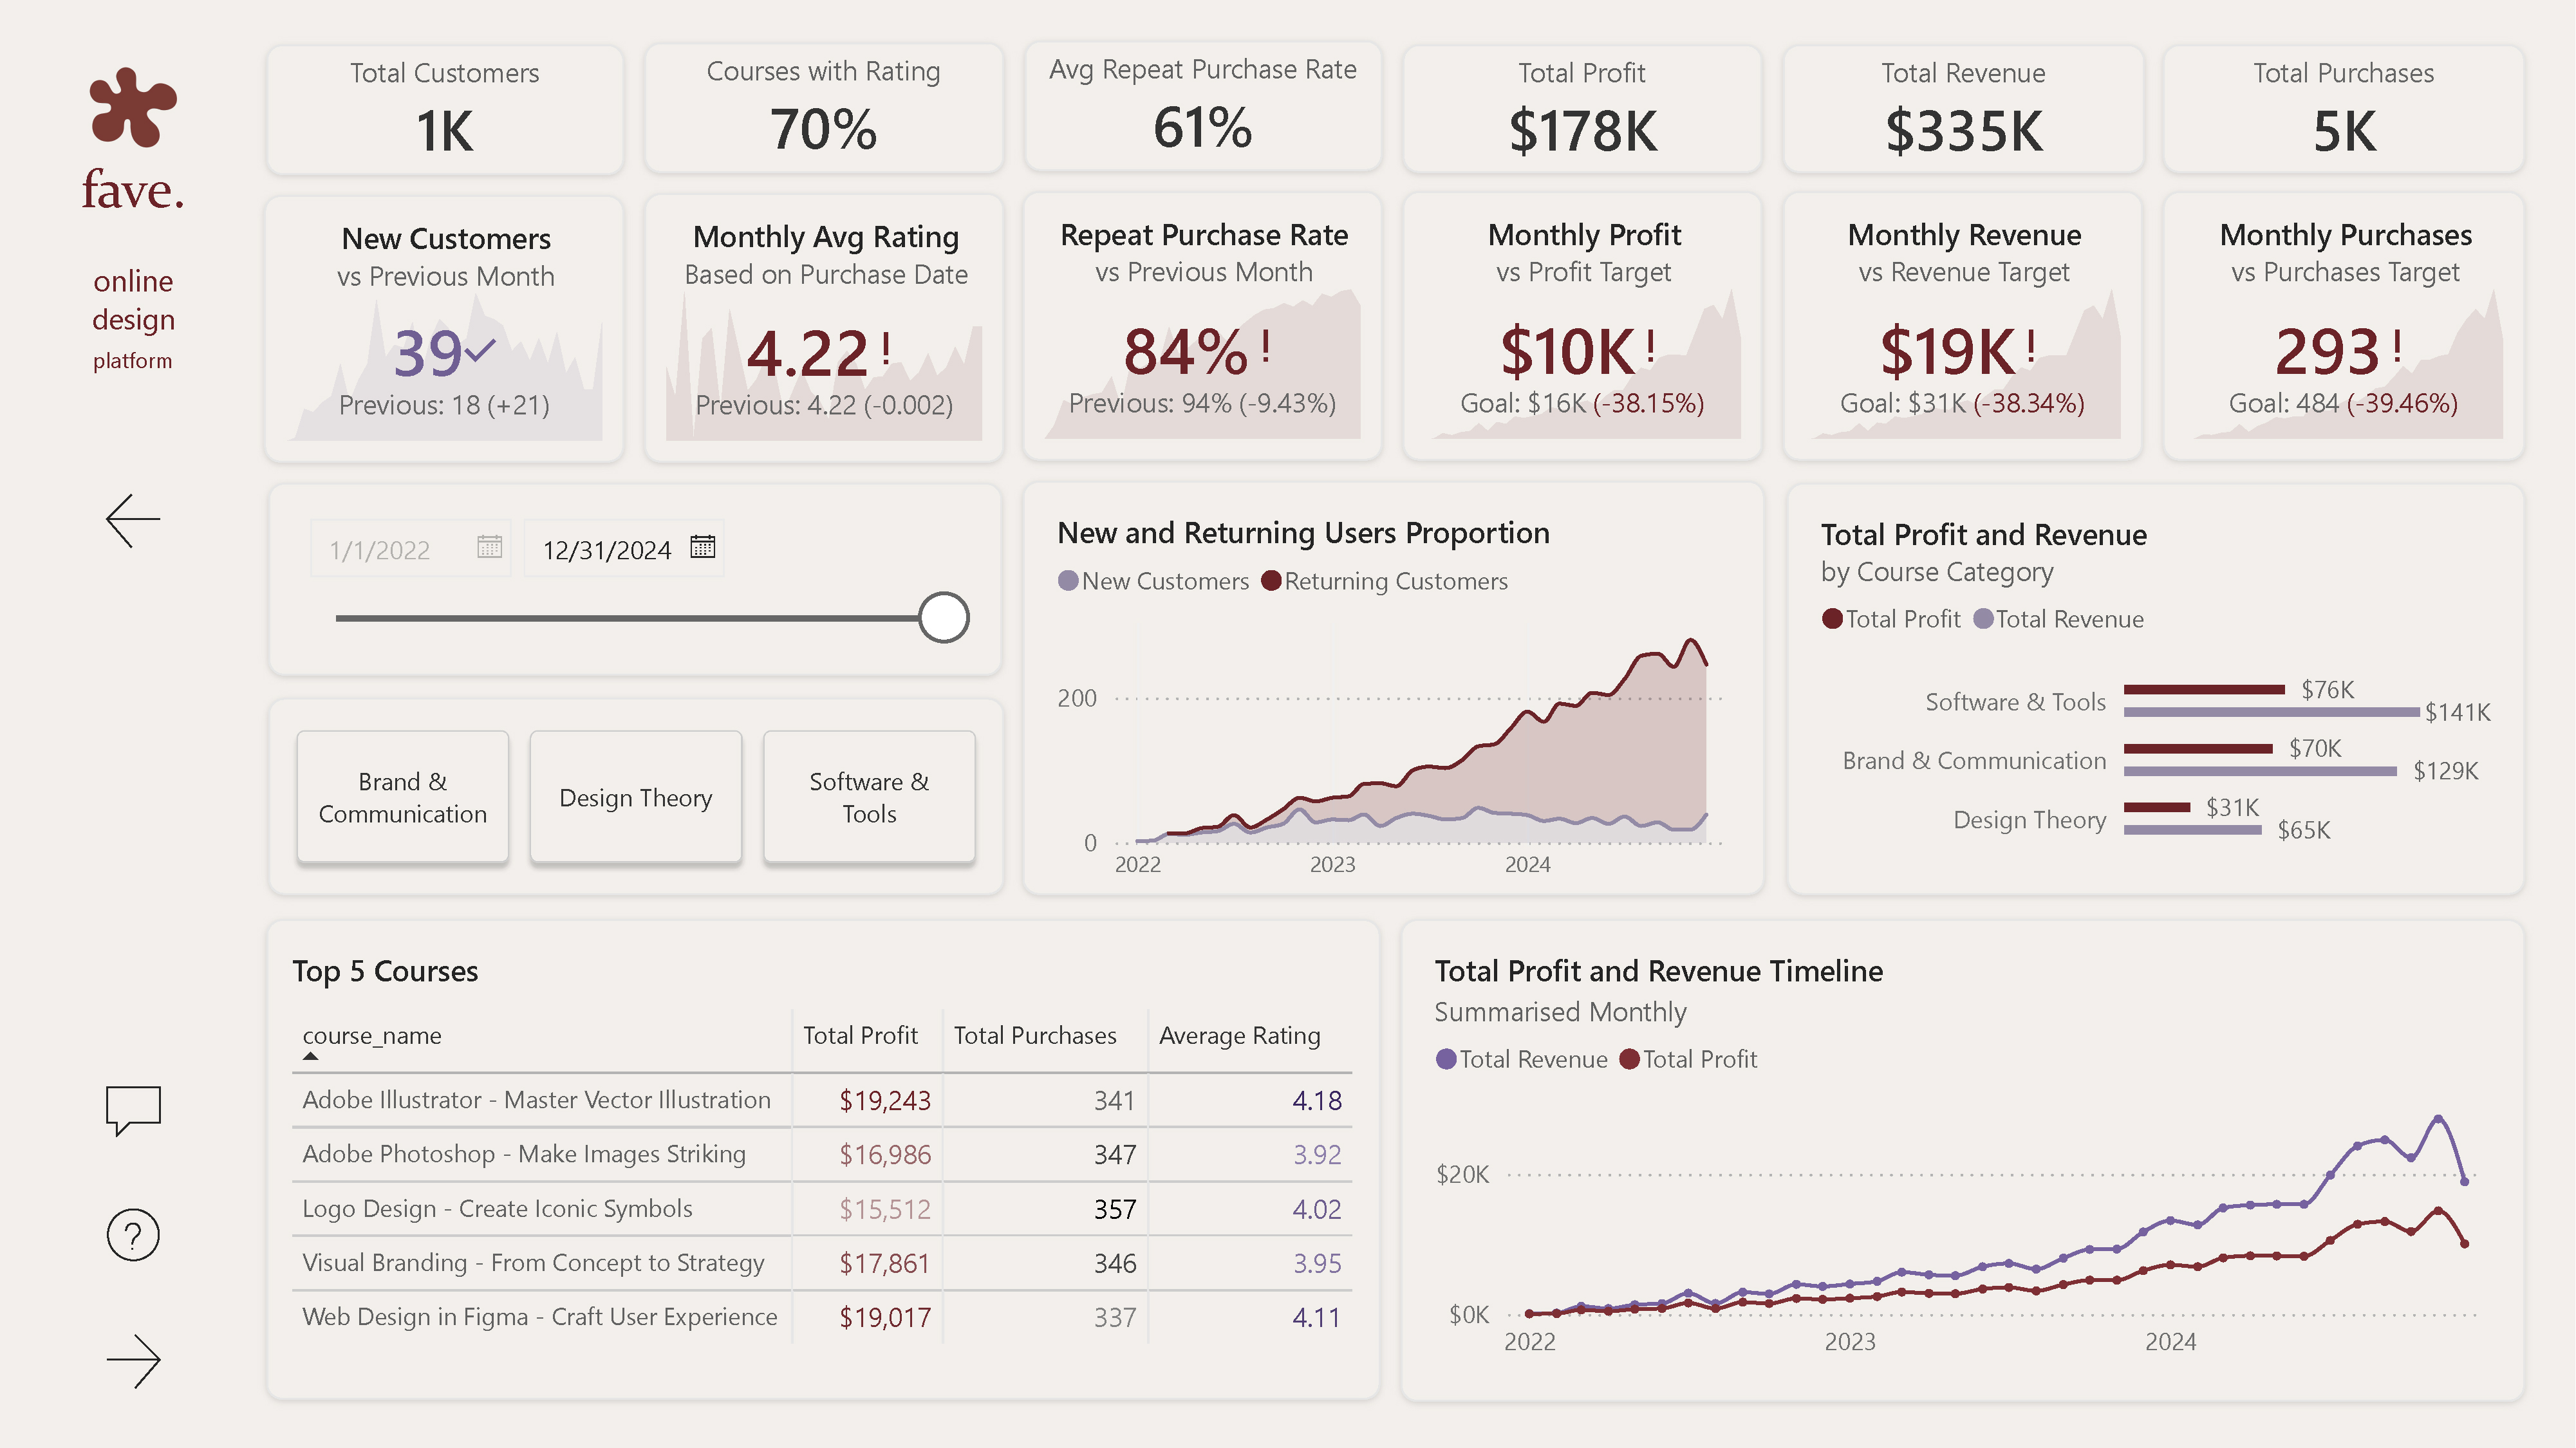

Layout of this report page (visuals, bound fields, positions):
{"tool":"powerbi","page":{"name":"Executive Dashboard","canvas":[1280,720],"ordinal":0},"visuals":[{"type":"lineChart","title":"Total Profit and Revenue Timeline","fields":{"Category":["calendar.date.Variation.Date Hierarchy.Year","calendar.date.Variation.Date Hierarchy.Quarter","calendar.date.Variation.Date Hierarchy.Month"],"Y":["Measure Table.Total Revenue","Measure Table.Total Profit"]},"box":[696.1,457.2,558.6,240.1],"z":0},{"type":"cardVisual","fields":{"Data":["Measure Table.Total Profit"]},"box":[696.6,21.7,179.8,63.9],"z":1000},{"type":"cardVisual","fields":{"Data":["Measure Table.Total Revenue"]},"box":[885.8,21.7,179.8,63.9],"z":2000},{"type":"pivotTable","title":"Top 5 Courses","fields":{"Rows":["courses.course_name"],"Values":["Measure Table.Total Profit","Measure Table.Total Purchases","Measure Table.Average Course Rating"]},"box":[131.5,457.2,555,238.9],"z":3000},{"type":"image","box":[39.7,28.1,52.5,50],"z":4000},{"type":"actionButton","box":[43,239.7,45,38.3],"z":5000},{"type":"actionButton","box":[43,593,45,41.7],"z":6000},{"type":"actionButton","box":[43,532.2,45,40.8],"z":7000},{"type":"actionButton","box":[47.2,658.9,36.7,35],"z":8000},{"type":"textbox","box":[32,77.8,68.3,137.8],"z":9000},{"type":"kpi","title":"Monthly Profit ","fields":{"Goal":["Measure Table.Profit Target"],"Indicator":["Measure Table.Total Profit"],"TrendLine":["calendar.Start of Month"]},"box":[697.1,95.1,179.3,134.1],"z":10000},{"type":"kpi","title":"Monthly Revenue ","fields":{"Goal":["Measure Table.Revenue Target 1"],"Indicator":["Measure Table.Total Revenue"],"TrendLine":["calendar.Start of Month"]},"box":[886,95.1,179.3,134.1],"z":11000},{"type":"kpi","title":"Monthly Purchases","fields":{"Goal":["Measure Table.Purchases Target"],"Indicator":["Measure Table.Total Purchases"],"TrendLine":["calendar.Start of Month"]},"box":[1074.9,95.3,179.8,133.9],"z":12000},{"type":"cardVisual","fields":{"Data":["Measure Table.Total Purchases"]},"box":[1074.9,21.7,179.8,63.9],"z":13000},{"type":"stackedAreaChart","title":"New and Returning Users Proportion","fields":{"Category":["calendar.date.Variation.Date Hierarchy.Year","calendar.date.Variation.Date Hierarchy.Month"],"Y":["Measure Table.New Customers","Measure Table.Returning Customers"]},"box":[507.9,238.9,369.2,206.3],"z":14000},{"type":"kpi","title":"Repeat Purchase Rate","fields":{"Goal":["Measure Table.Previous Month Repeat Purchase Rate %"],"Indicator":["Measure Table.Repeat Purchase Rate %"],"TrendLine":["calendar.Start of Month"]},"box":[508.2,95.1,179.3,134.1],"z":15000},{"type":"cardVisual","fields":{"Data":["Measure Table.Avg Monthly Repeat Purchase Rate %"]},"box":[508.5,20,178.8,65],"z":16000},{"type":"kpi","title":"Monthly Avg Rating","fields":{"Goal":["Measure Table.Previous Month Avg Rating per Purchase Date"],"Indicator":["Measure Table.Average Rating"],"TrendLine":["calendar.Start of Month"]},"box":[319.8,96.2,178.8,133.8],"z":17000},{"type":"cardVisual","fields":{"Data":["Measure Table.Rated Courses Pct"]},"box":[320.4,21.2,178.8,65],"z":18000},{"type":"clusteredBarChart","title":"Total Profit and Revenue","fields":{"Category":["courses.course_category"],"Y":["Measure Table.Total Profit","Measure Table.Total Revenue"]},"box":[887.9,240.1,366.8,205.1],"z":19000},{"type":"kpi","title":"New Customers","fields":{"Goal":["Measure Table.Previous Month Customers"],"Indicator":["Measure Table.New Customers"],"TrendLine":["calendar.Start of Month"]},"box":[131.5,96.6,178.8,133.8],"z":20000},{"type":"cardVisual","fields":{"Data":["Measure Table.Total Customers"]},"box":[131.5,21.7,178.6,65.1],"z":21000},{"type":"slicer","title":"Date Range","fields":{"Values":["calendar.date"]},"box":[132.6,240,365.8,96.3],"z":22000},{"type":"advancedSlicerVisual","title":"Course Category","fields":{"Values":["courses.course_category"]},"box":[132.8,346.7,366.7,98.3],"z":23000}]}

Visuals, with their boxes in screenshot pixels (x1, y1, x2, y2), scaled from the page's 1280x720 canvas onto the 2576x1448 screenshot:
"Total Profit and Revenue Timeline" lineChart: box(1401, 920, 2525, 1402)
cardVisual - Measure Table.Total Profit: box(1402, 44, 1764, 172)
cardVisual - Measure Table.Total Revenue: box(1783, 44, 2145, 172)
"Top 5 Courses" pivotTable: box(265, 920, 1381, 1400)
image: box(80, 57, 185, 157)
actionButton: box(86, 482, 177, 559)
actionButton: box(86, 1193, 177, 1276)
actionButton: box(86, 1070, 177, 1153)
actionButton: box(95, 1325, 169, 1395)
textbox: box(64, 156, 202, 434)
"Monthly Profit " kpi: box(1403, 191, 1764, 461)
"Monthly Revenue " kpi: box(1783, 191, 2144, 461)
"Monthly Purchases" kpi: box(2163, 192, 2525, 461)
cardVisual - Measure Table.Total Purchases: box(2163, 44, 2525, 172)
"New and Returning Users Proportion" stackedAreaChart: box(1022, 481, 1765, 895)
"Repeat Purchase Rate" kpi: box(1023, 191, 1384, 461)
cardVisual - Measure Table.Avg Monthly Repeat Purchase Rate %: box(1023, 40, 1383, 171)
"Monthly Avg Rating" kpi: box(644, 194, 1003, 463)
cardVisual - Measure Table.Rated Courses Pct: box(645, 42, 1005, 173)
"Total Profit and Revenue" clusteredBarChart: box(1787, 483, 2525, 895)
"New Customers" kpi: box(265, 194, 624, 463)
cardVisual - Measure Table.Total Customers: box(265, 44, 624, 174)
"Date Range" slicer: box(267, 483, 1003, 676)
"Course Category" advancedSlicerVisual: box(267, 697, 1005, 895)
